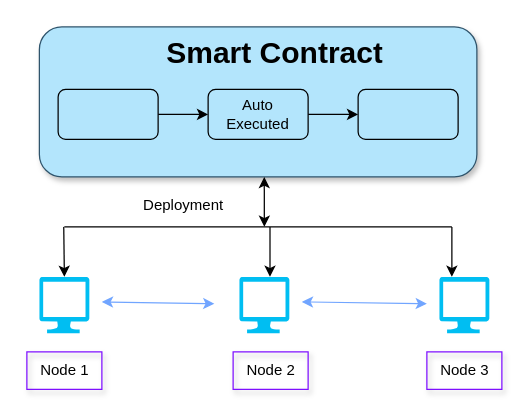
This 531x420 diagram has some shape labels left out. The shapes that lost their labels are listed below. From the top down, each one's centre as x and y in pixels, then its label:
(x=107, y=113): Code + Logic
(x=407, y=113): Deployed to all nodes
